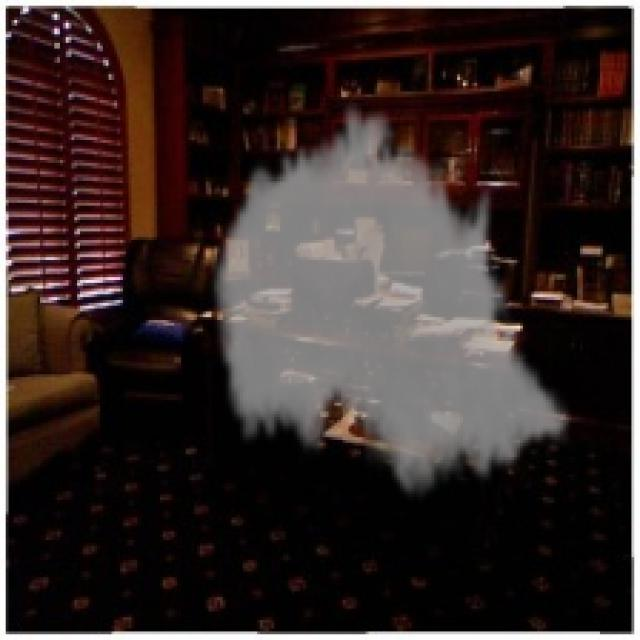smoke: (208, 97, 572, 509)
